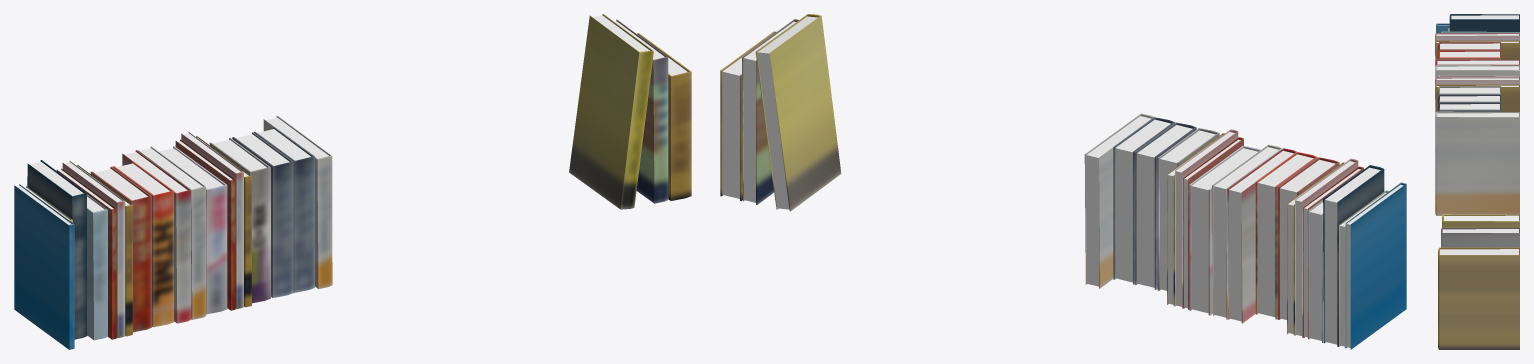
File: books 1.FBX
The picture shows the model from 3 angles, left to right: view 1: azimuth 30°, elevation 25°; view 2: azimuth 150°, elevation 25°; view 3: azimuth 270°, elevation 25°; orthographic projection. The views are drawn at different scales.
Parts seen in each view (by area): view 1: books 1; view 2: books 1; view 3: books 1.
Boxes of the visible parts, box(x1,y1,x2,y2) form: books 1: box(14, 14, 691, 349); books 1: box(720, 14, 1406, 349); books 1: box(1435, 14, 1519, 349).
Bounding box in the file's own units: 49.91 × 7.72 × 11.78.
1 material, 1 textured.
